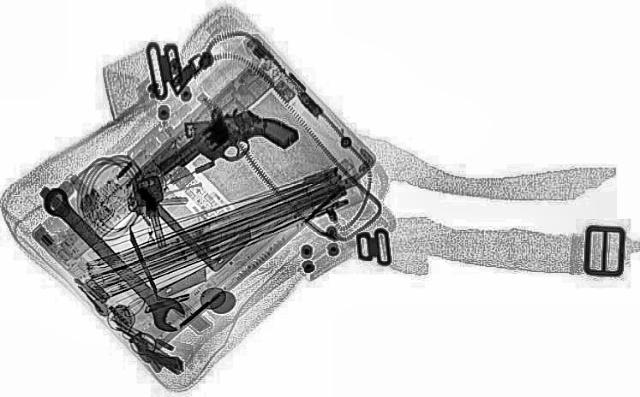Gun: (152, 102, 306, 196)
Wrench: (30, 186, 200, 334)
